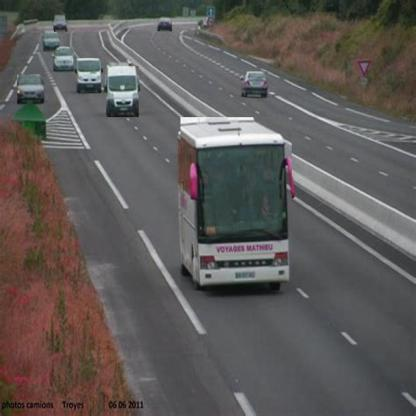bus: (182, 118, 294, 292)
car: (107, 67, 140, 119), (18, 75, 45, 107), (78, 59, 102, 95), (243, 72, 270, 99), (53, 48, 75, 72), (42, 32, 61, 52), (157, 18, 174, 33), (55, 15, 67, 33)
